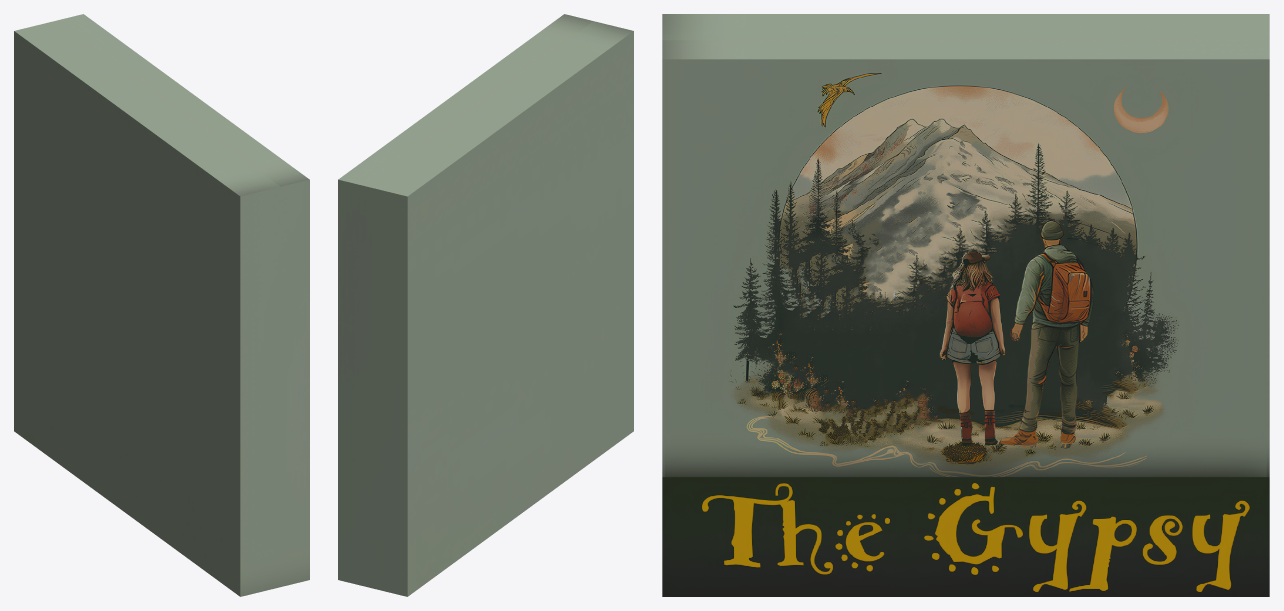
The model's file is gypsySignBoard.gltf.
3 renders of one model, left to right at view 1: azimuth 30°, elevation 25°; view 2: azimuth 150°, elevation 25°; view 3: azimuth 270°, elevation 25°, orthographic. The views are drawn at different scales.
Parts seen in each view (by area): view 1: boardLightBox; view 2: boardLightBox; view 3: boardLightBox.
Part boxes in pixels (x1,y1,x2,y2): boardLightBox: (14,14,309,596); boardLightBox: (338,14,633,596); boardLightBox: (662,14,1269,596).
Bounding box in the file's own units: 0.2339 × 1.29 × 1.32.
Materials: 1 (1 with a texture image).
